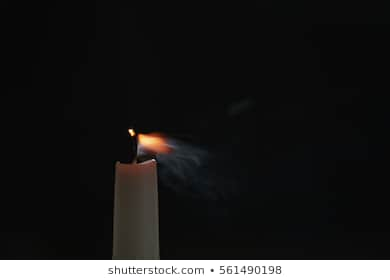Fire: (132, 127, 175, 156)
